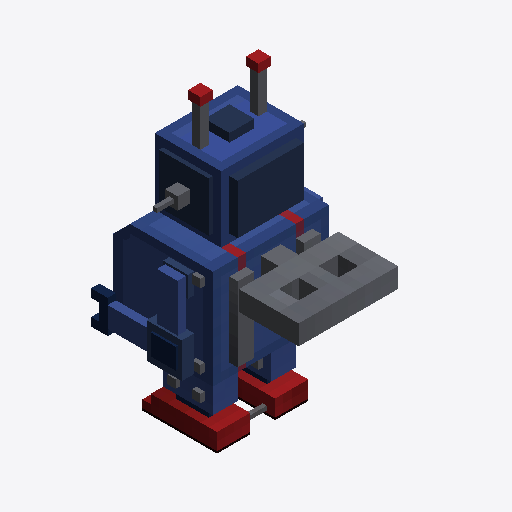
A Minecraft block model of 91 cuboids, rendered isometrically (azimuth 45°, elevation 35.3°) with the resource pack's own textures.
Visible parts, largest first — bodybase, headbase, wind_3, headbackplate, wind_2, leftfootbase, torsoleft, leftheadpanel, rightfootbase, torsotop, backleftrod, rightbicep (+13 smaller).
Boxes of the visible parts, <box> form: bodybase: <box>171,191,328,385</box>; headbase: <box>171,98,303,247</box>; wind_3: <box>279,255,397,345</box>; headbackplate: <box>229,138,303,237</box>; wind_2: <box>239,232,357,322</box>; leftfootbase: <box>151,387,249,450</box>; torsoleft: <box>113,225,162,318</box>; leftheadpanel: <box>159,148,212,235</box>; rightfootbase: <box>238,370,307,416</box>; torsotop: <box>130,211,195,261</box>; backleftrod: <box>229,267,253,366</box>; rightbicep: <box>157,264,185,335</box>.
Size of the model in its own units: 9.25 by 17.5 by 11.15.